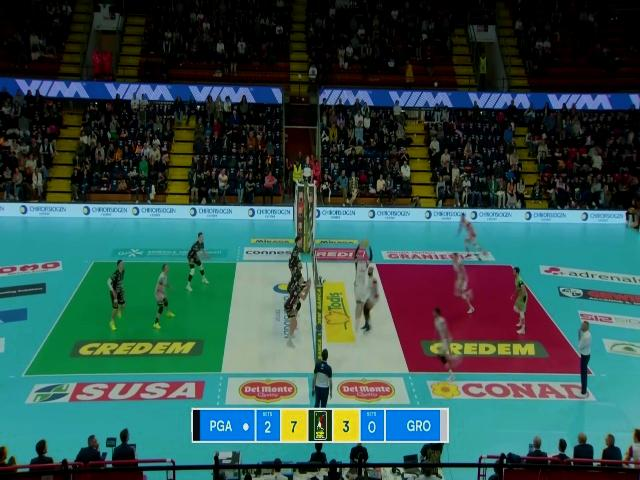volleyball court: (21, 262, 592, 375)
